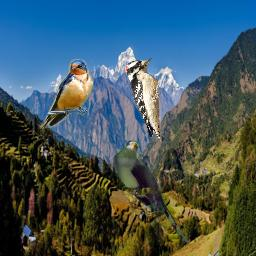Cuckoo: (113, 140, 194, 245)
Swallow: (40, 59, 94, 129)
Woodpecker: (125, 58, 162, 141)
